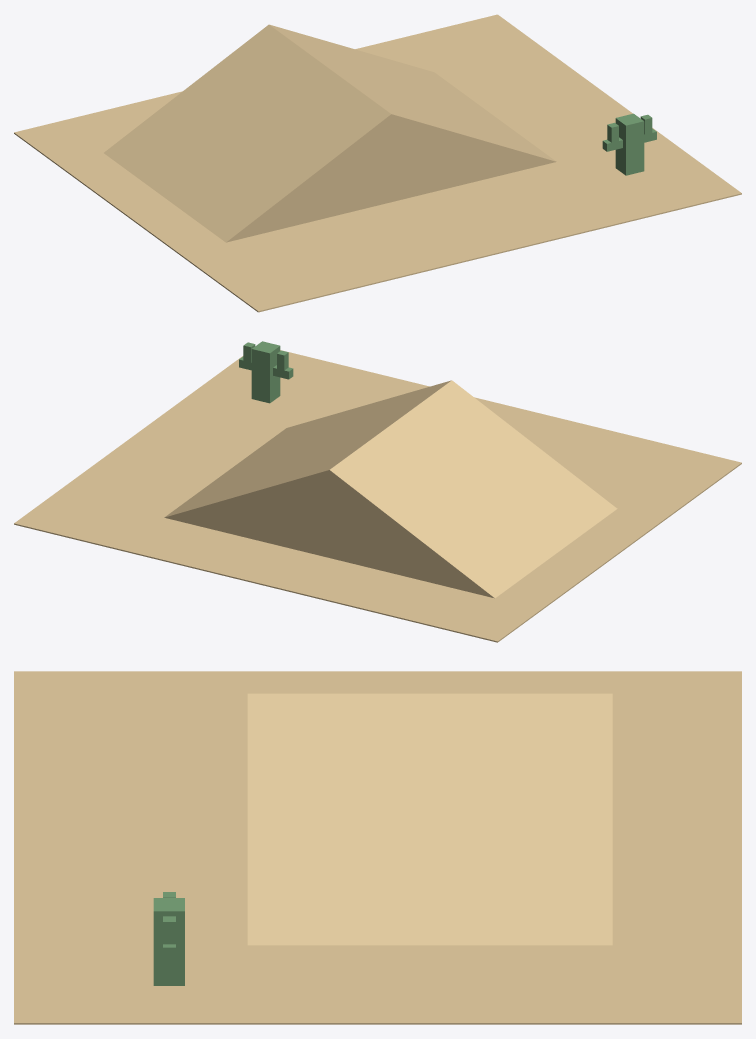
The model's file is plot-arid.glb.
3 renders of one model, top to bottom at view 1: azimuth 30°, elevation 25°; view 2: azimuth 150°, elevation 25°; view 3: azimuth 270°, elevation 25°, orthographic. The views are drawn at different scales.
Size of the model in its own units: 15.96 by 2.82 by 13.96.
